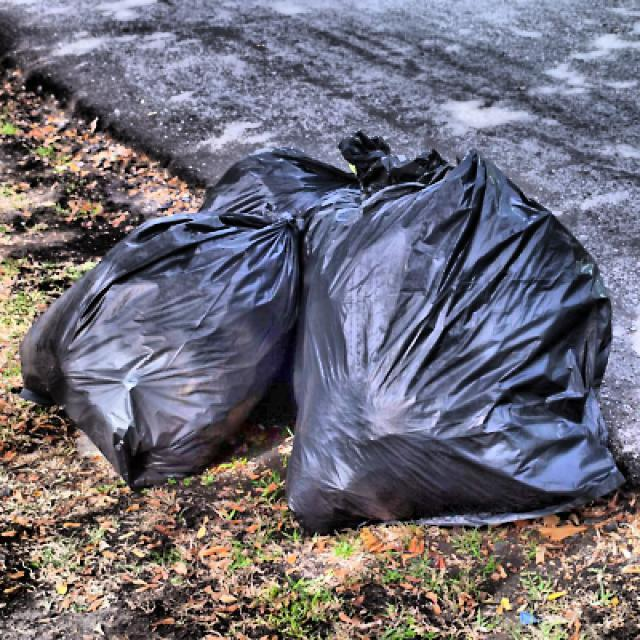Trashbag: (278, 142, 640, 535), (17, 208, 304, 494)
